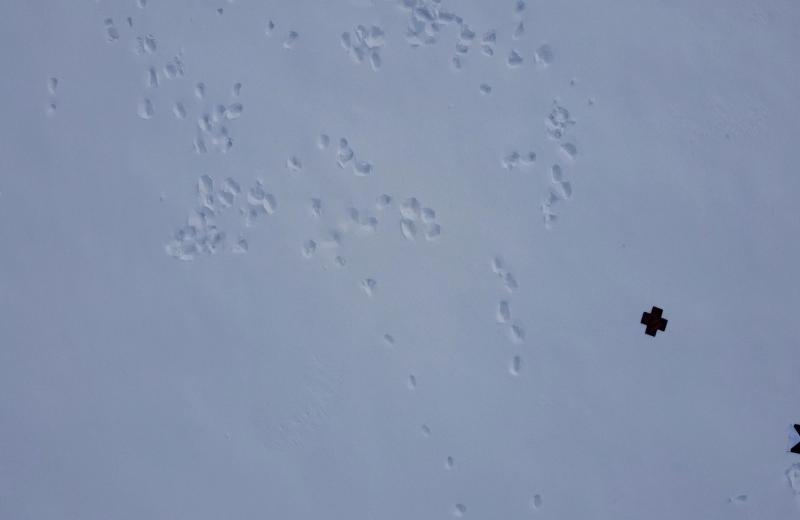Cross: (640, 301, 670, 338)
